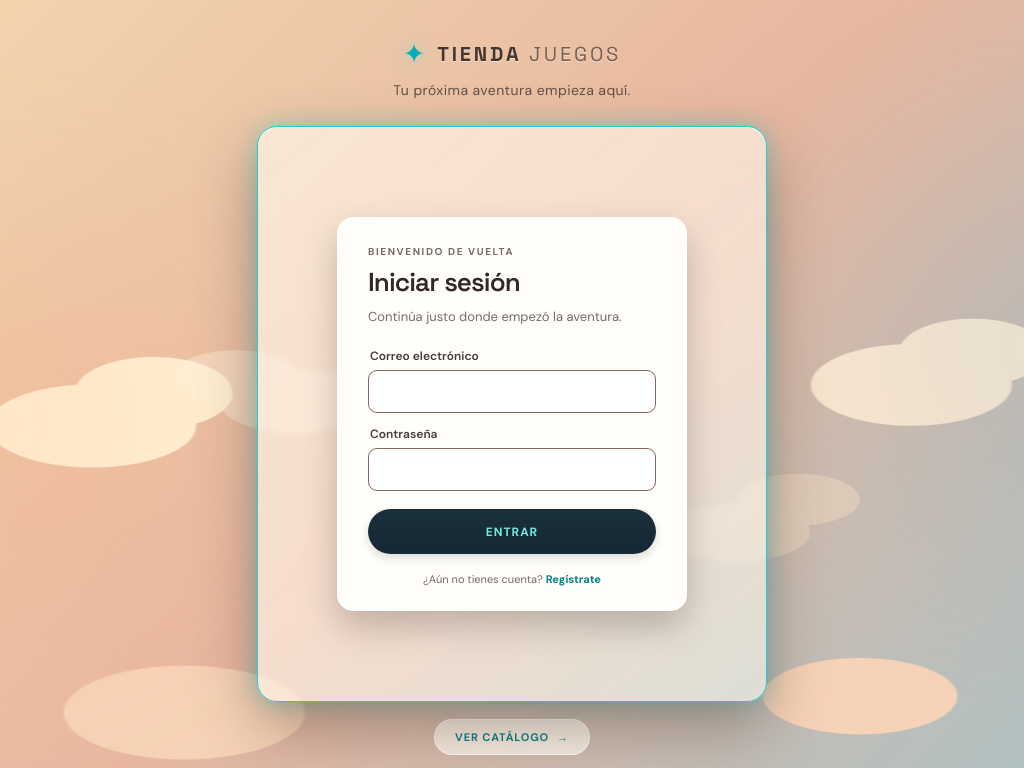
Test: AuthScreen › muestra errores de validación en el inicio de sesión
Click the button "Entrar": click(512, 532) [368, 509, 656, 554]
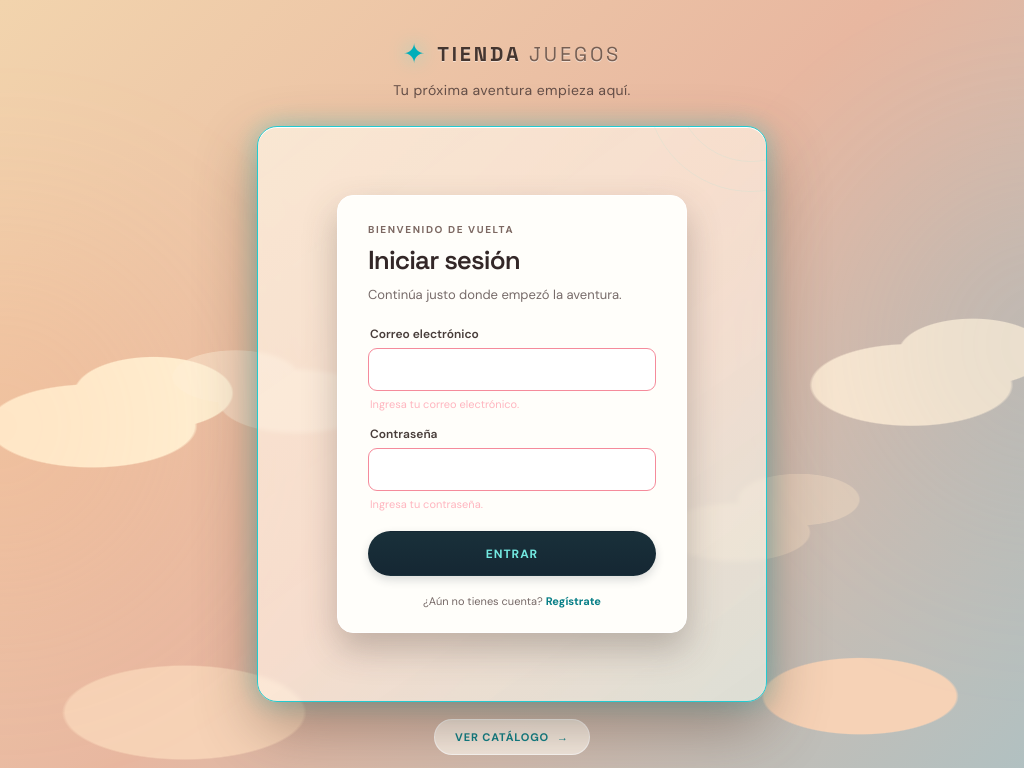
expect the text "Ingresa tu correo electrónico." is shown: met, box [370, 397, 519, 411]
expect the text "Ingresa tu contraseña." is shown: met, box [370, 497, 483, 511]
In the field labelled "Correo electrónico": (512, 370) [368, 348, 656, 391], type "correo-invalido"
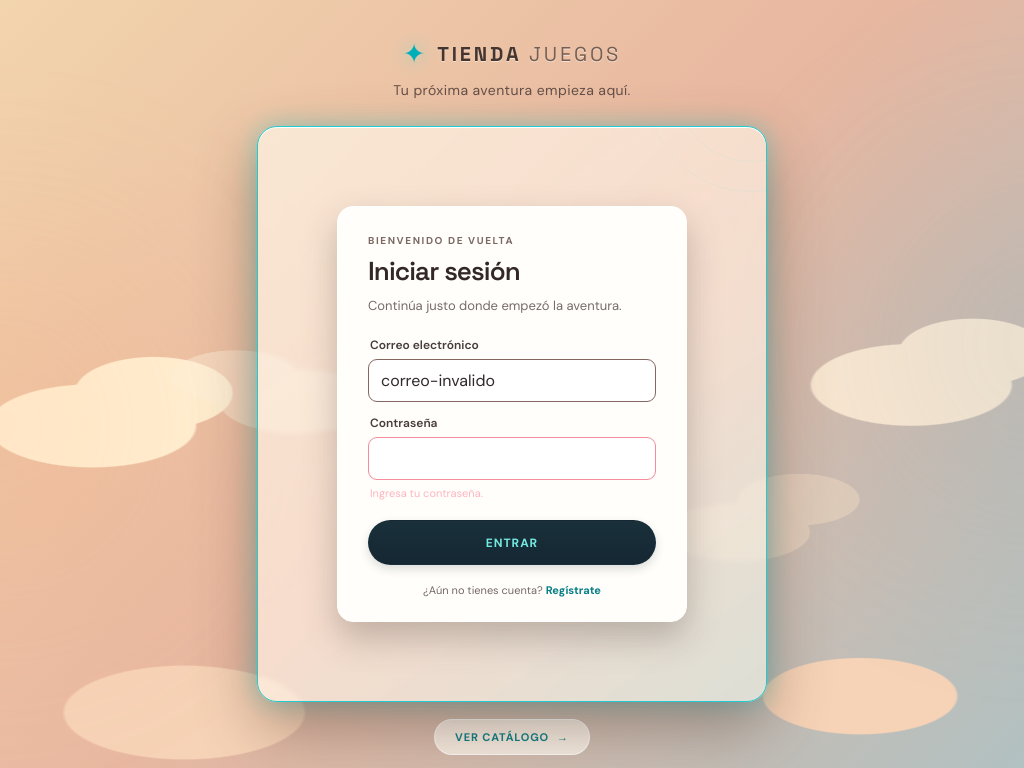
Click the button "Entrar": click(512, 543) [368, 520, 656, 565]
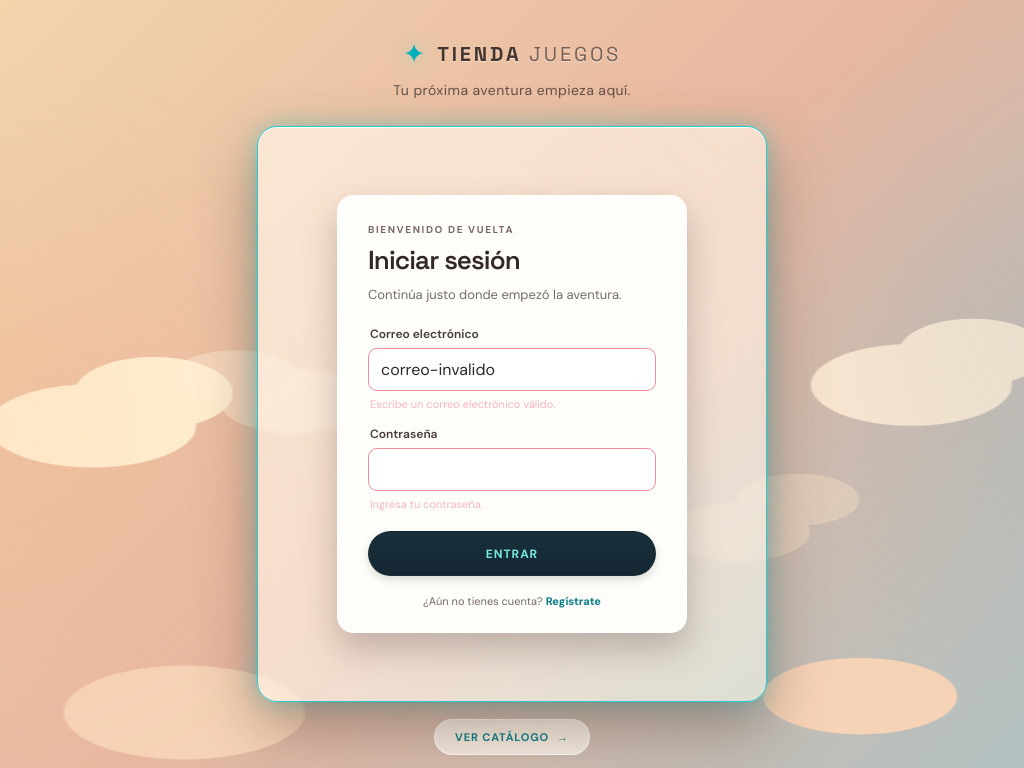
expect the text "Escribe un correo electrónico válido." is shown: met, box [370, 397, 556, 411]
